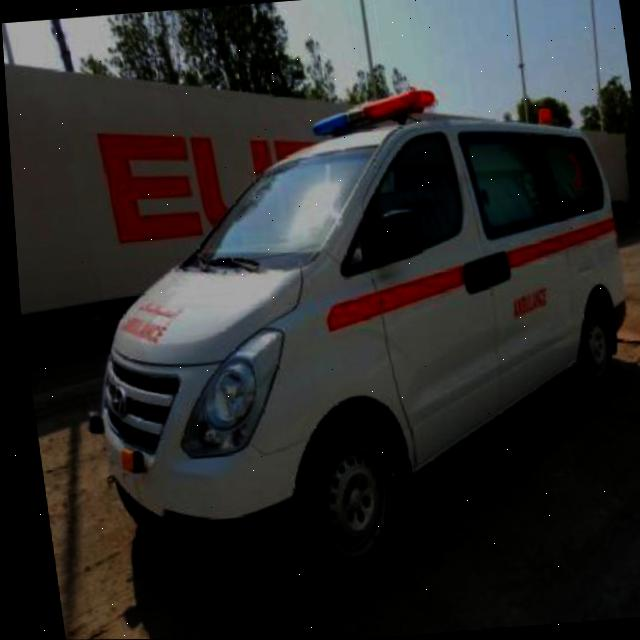emergency: (40, 71, 640, 599)
